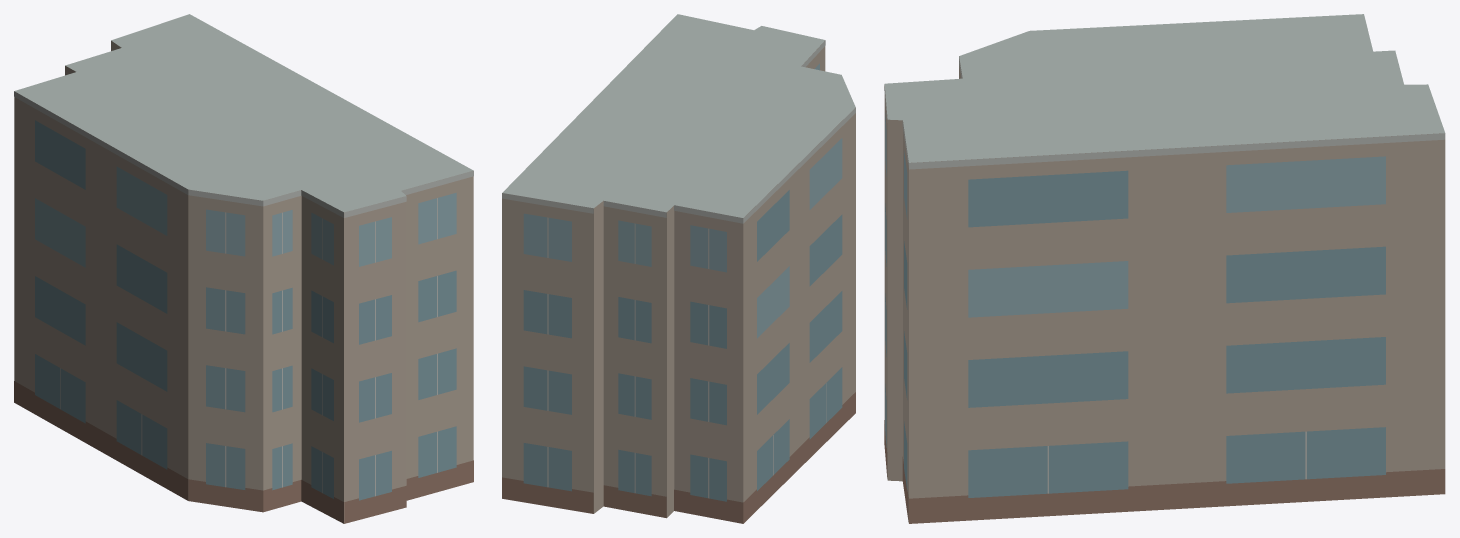
File: survey-upis-32625365.glb
3 renders of one model, left to right at view 1: azimuth 30°, elevation 25°; view 2: azimuth 150°, elevation 25°; view 3: azimuth 270°, elevation 25°, orthographic. The views are drawn at different scales.
Parts seen in each view (by area): view 1: survey-upis-32625365.tmp; view 2: survey-upis-32625365.tmp; view 3: survey-upis-32625365.tmp.
Boxes of the visible parts, bbox=[...] form: survey-upis-32625365.tmp: bbox=[14, 14, 473, 523]; survey-upis-32625365.tmp: bbox=[502, 14, 855, 523]; survey-upis-32625365.tmp: bbox=[884, 14, 1445, 523].
Bounding box in the file's own units: 11.78 × 13.3 × 18.74.
